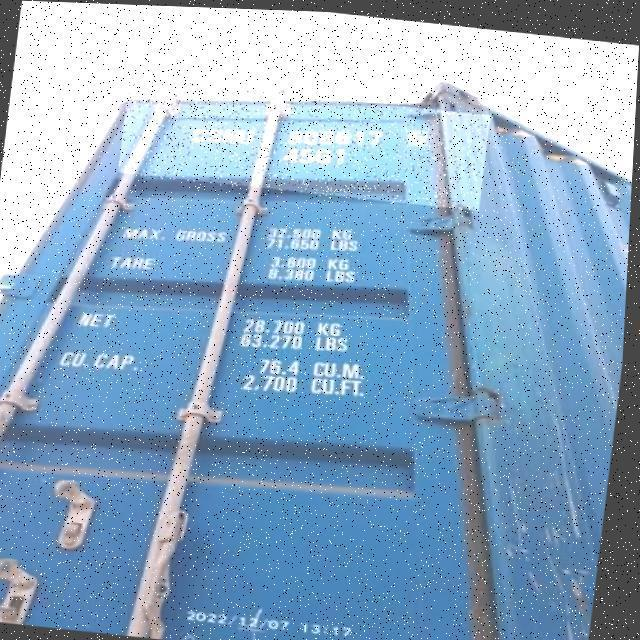container_number_h: (118, 76, 492, 209)
